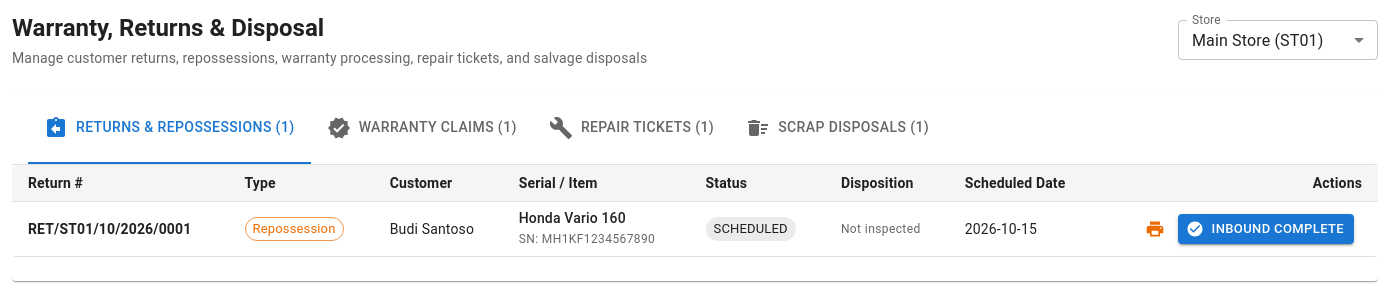
Test case: RepossessionWarrantyPage › switches between tabs cleanly
The image size is (1378, 300).
# Click Warranty Claims tab
Click the tab "Warranty Claims (1)" at (422, 128), box x1=311 y1=92 x2=533 y2=164
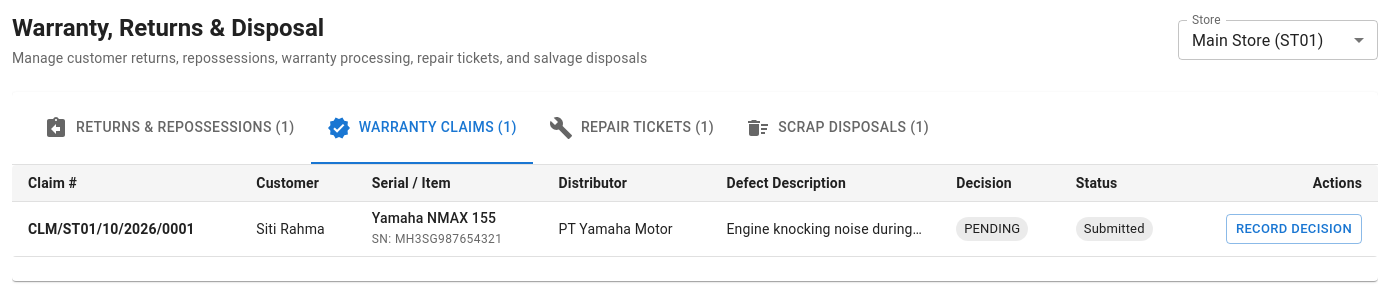
Result: the text "CLM/ST01/10/2026/0001" is shown at x1=12 y1=202 x2=240 y2=256
Result: the text "PT Yamaha Motor" is shown at x1=542 y1=202 x2=710 y2=256
Result: the button "Record Decision" is shown at x1=1226 y1=214 x2=1362 y2=244
# Click Repair Tickets tab
Click the tab "Repair Tickets (1)" at (632, 128), box x1=533 y1=92 x2=730 y2=164
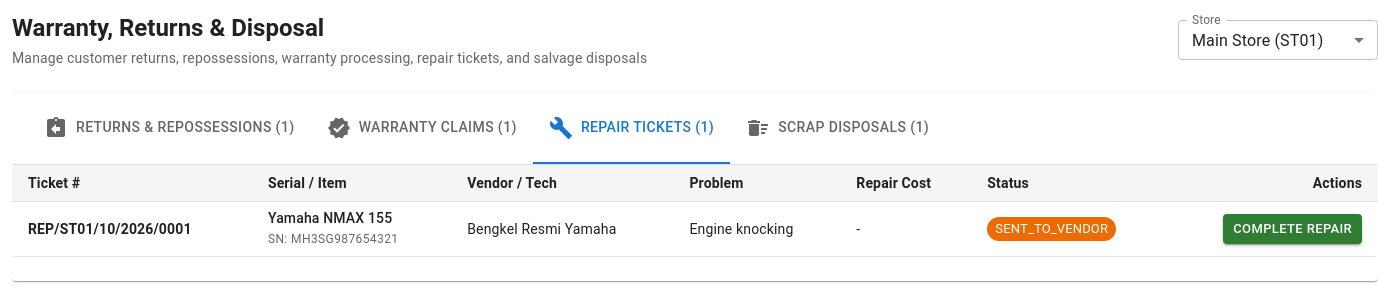
Result: the text "REP/ST01/10/2026/0001" is shown at x1=12 y1=202 x2=252 y2=256
Result: the text "Bengkel Resmi Yamaha" is shown at x1=451 y1=202 x2=674 y2=256
Result: the button "Complete Repair" is shown at x1=1223 y1=214 x2=1362 y2=244
# Click Scrap Disposals tab
Click the tab "Scrap Disposals (1)" at (838, 128), box x1=730 y1=92 x2=945 y2=164
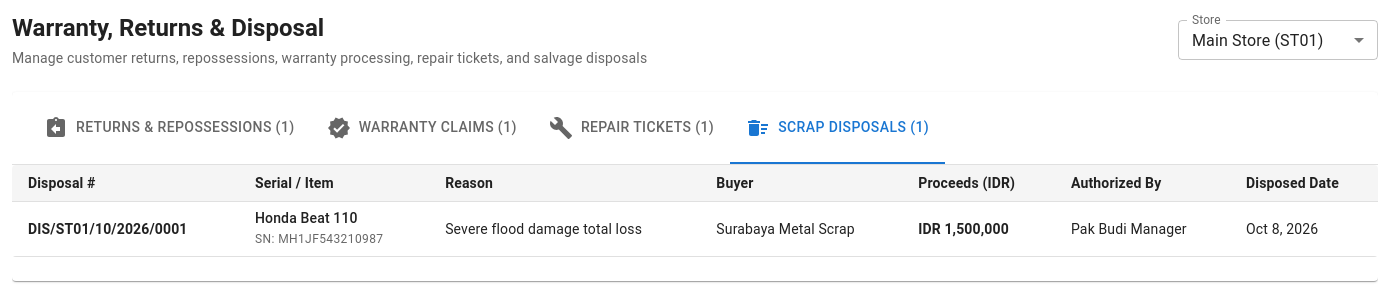
Result: the text "DIS/ST01/10/2026/0001" is shown at x1=12 y1=202 x2=239 y2=256
Result: the text "Surabaya Metal Scrap" is shown at x1=700 y1=202 x2=902 y2=256
Result: the text "Severe flood damage total loss" is shown at x1=429 y1=202 x2=700 y2=256
